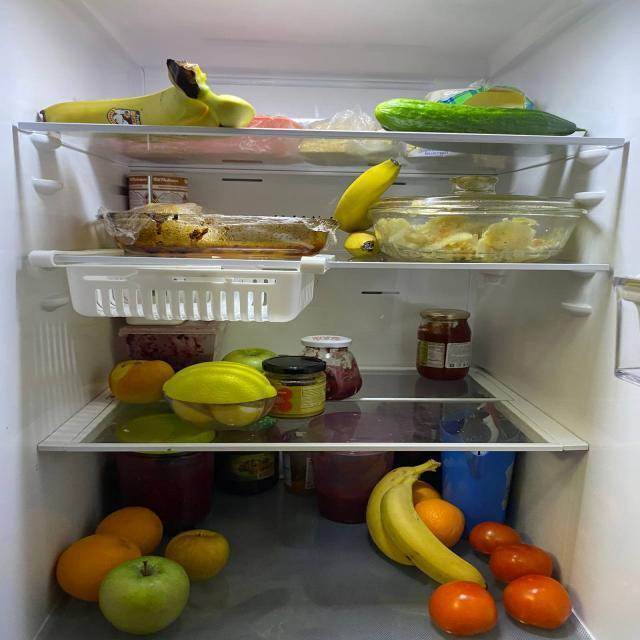apple: (90, 557, 190, 634), (167, 526, 230, 577), (108, 360, 172, 401), (218, 343, 276, 372)
banana: (12, 68, 266, 135), (362, 465, 492, 585), (333, 160, 399, 236), (334, 232, 380, 256)
cucumber: (368, 99, 588, 132)
orange: (54, 534, 132, 605), (100, 504, 166, 547), (414, 496, 466, 544), (412, 476, 437, 499)
tomato: (498, 577, 578, 630), (430, 583, 500, 632), (492, 544, 556, 579), (464, 518, 522, 548)
